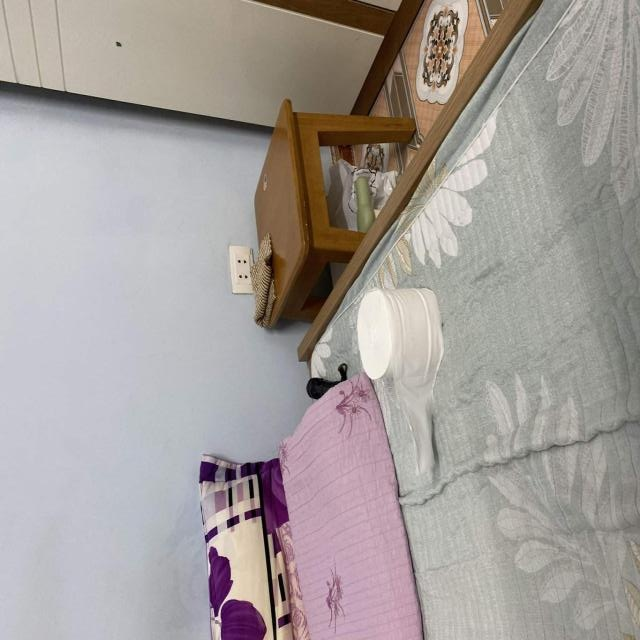outlet: (229, 246, 255, 295)
